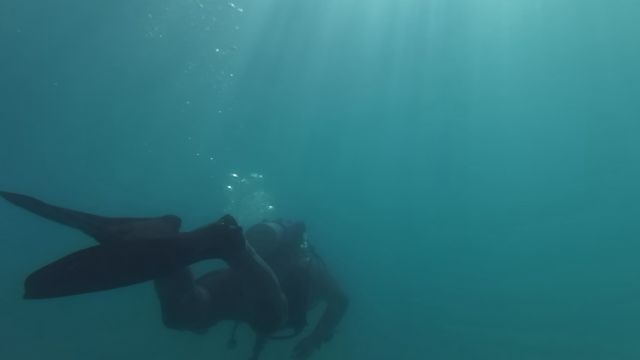Diver: (4, 183, 350, 357)
